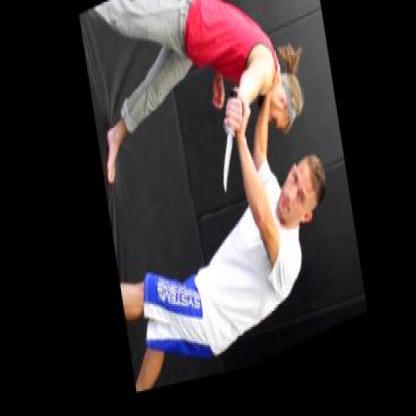knife: (204, 86, 250, 209)
